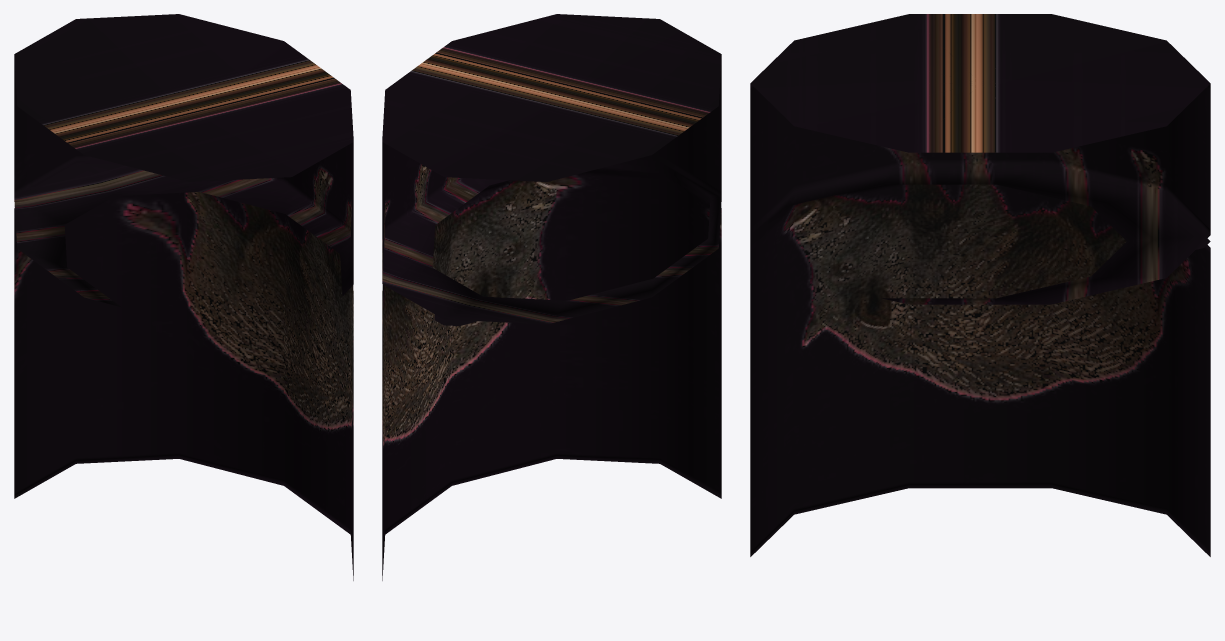
The model's file is boar.glb.
The picture shows the model from 3 angles, left to right: view 1: azimuth 30°, elevation 25°; view 2: azimuth 150°, elevation 25°; view 3: azimuth 270°, elevation 25°; orthographic projection. The views are drawn at different scales.
Visible parts, largest first — view 1: solid; view 2: solid; view 3: solid.
Part boxes in pixels (<box>): solid: <box>14,14,353,580</box>; solid: <box>382,14,721,580</box>; solid: <box>750,14,1210,556</box>.
Bounding box in the file's own units: 0.6277 × 1 × 0.88.
Materials: 1 (1 with a texture image).
